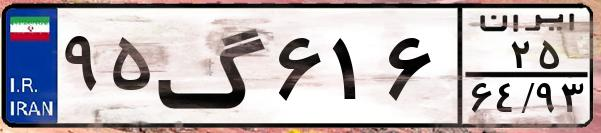1: (330, 28, 385, 110)
2: (508, 27, 537, 80)
3: (560, 70, 590, 125)
4: (495, 70, 520, 125)
5: (110, 28, 156, 98), (537, 27, 568, 80)
6: (270, 28, 330, 110), (385, 28, 445, 110), (470, 70, 495, 125)
9: (57, 26, 110, 100), (535, 70, 560, 125)
گ: (156, 12, 270, 120)
